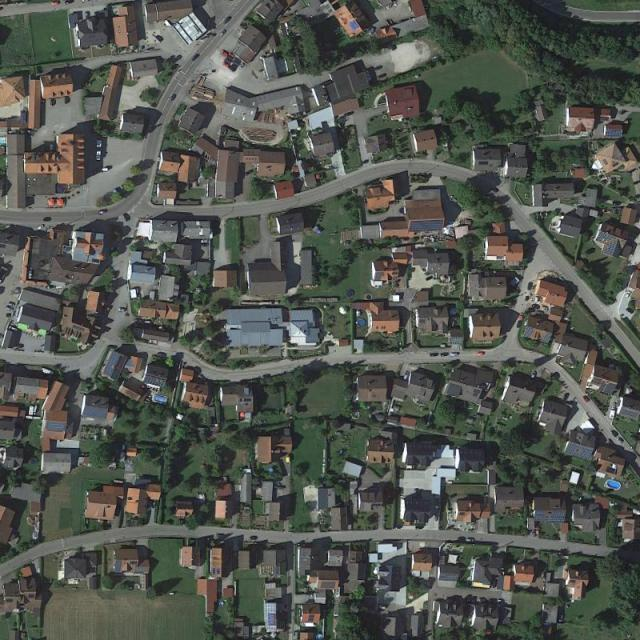vehicle: (191, 54, 201, 62), (117, 306, 125, 313), (219, 30, 226, 38), (170, 94, 178, 101), (35, 224, 44, 230), (584, 395, 591, 402), (224, 17, 232, 23), (531, 371, 537, 379), (611, 430, 619, 436), (617, 437, 624, 443), (6, 307, 14, 312), (518, 311, 523, 319), (323, 450, 326, 463), (8, 302, 15, 307), (430, 353, 438, 357), (45, 217, 52, 221), (100, 210, 107, 214), (442, 353, 449, 357), (467, 538, 474, 542), (478, 351, 485, 355), (323, 464, 326, 473), (451, 353, 459, 356)
